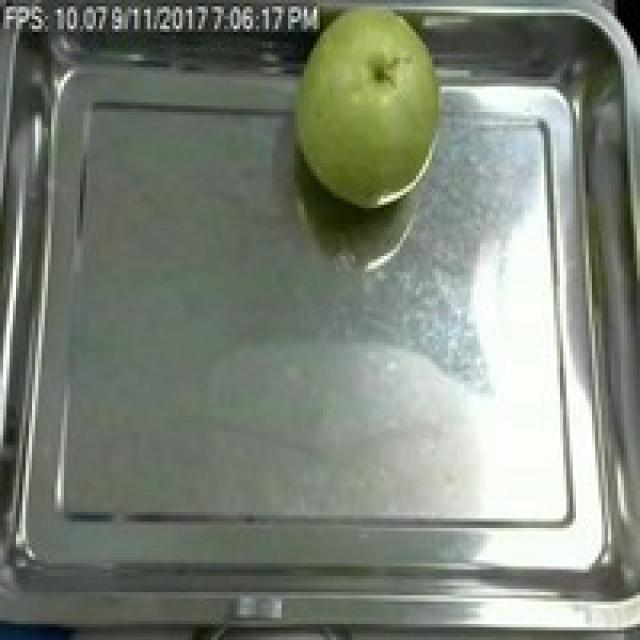Fruit: (278, 0, 452, 218)
